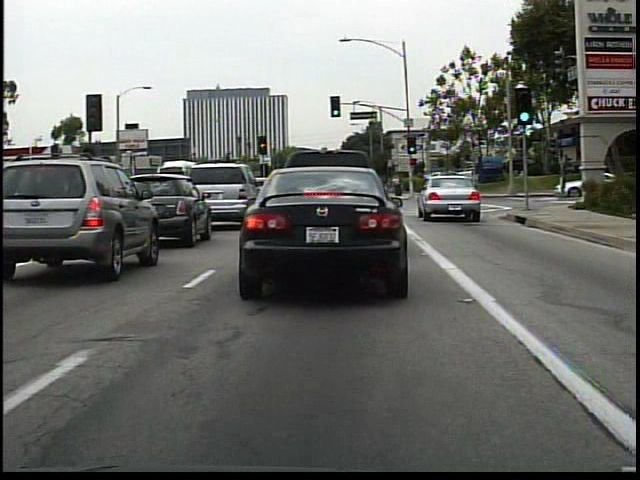person: (390, 173, 405, 198)
